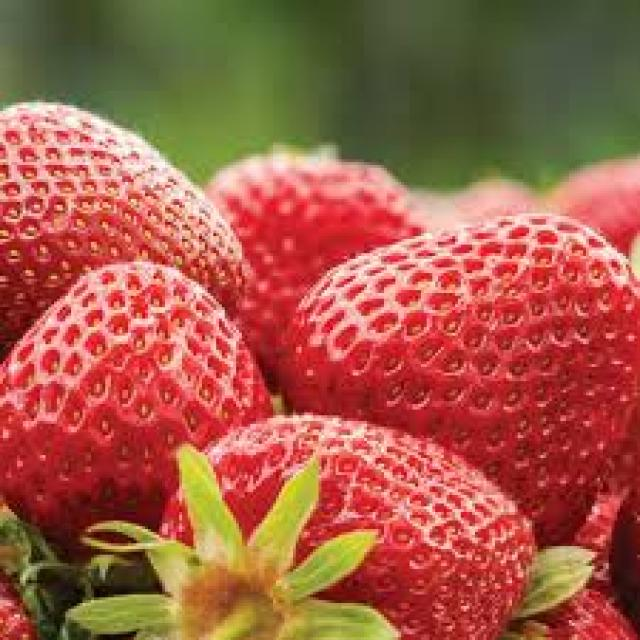strawberry: (274, 215, 634, 521), (134, 414, 532, 640), (0, 254, 265, 536)
